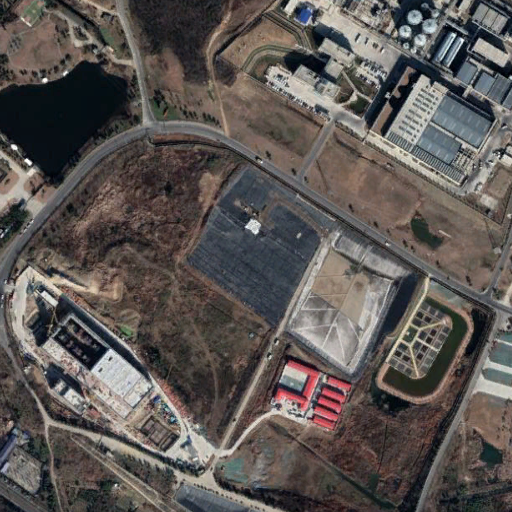lf: (180, 164, 422, 377)
